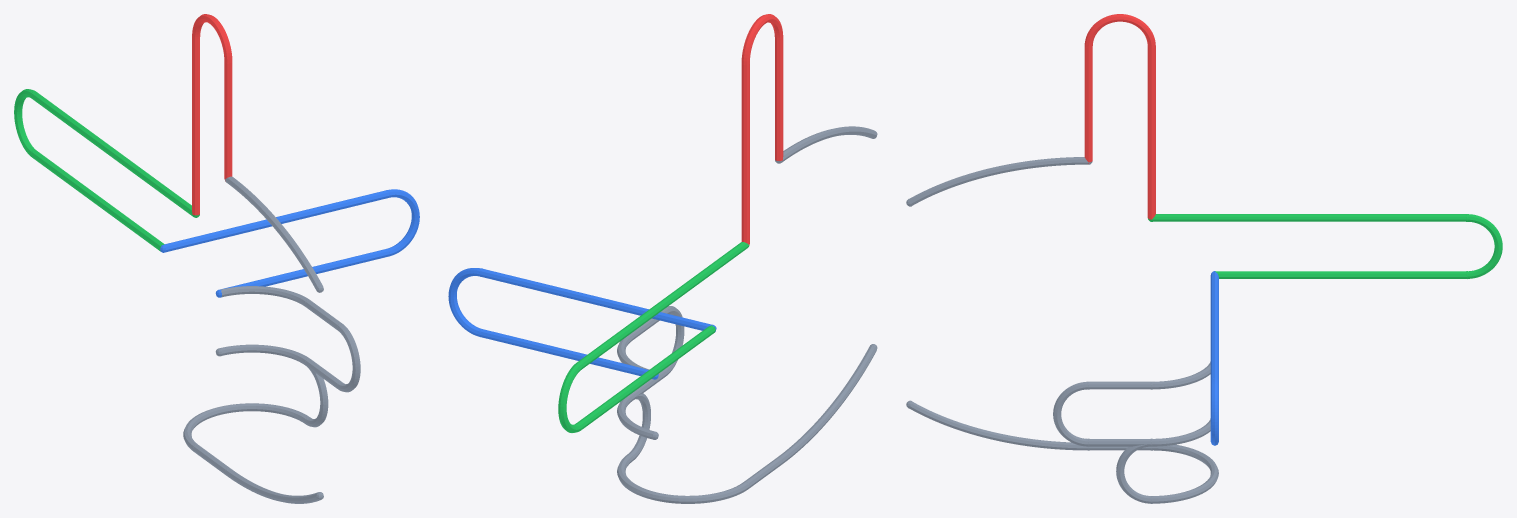
Rendered from hand_left_three-axis_thick-outline_u8_v1.glb.
3 renders of one model, left to right at view 1: azimuth 30°, elevation 25°; view 2: azimuth 150°, elevation 25°; view 3: azimuth 270°, elevation 25°, orthographic. The views are drawn at different scales.
Size of the model in its own units: 5.7 by 9.39 by 11.64.
